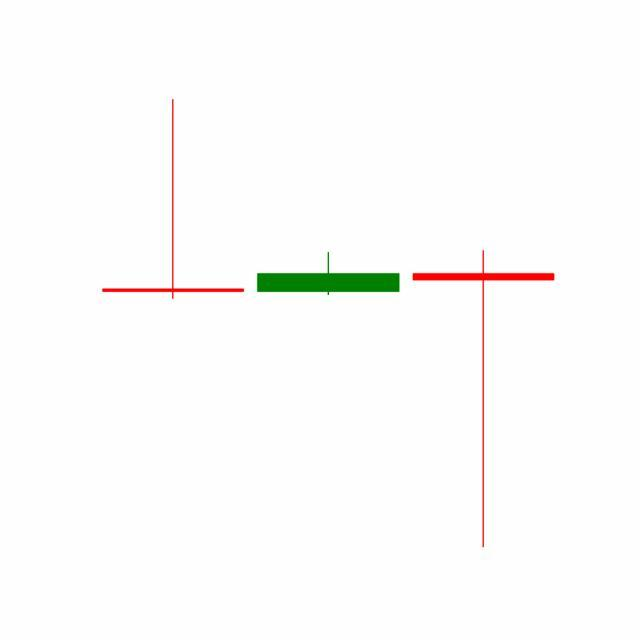Spinning Top: (406, 247, 562, 552)
